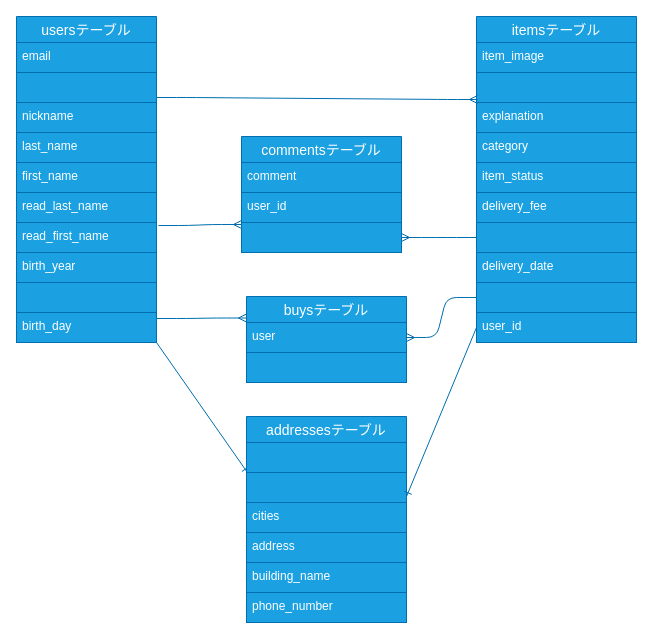
This 653x639 diagram has some shape labels left out. Each missing label, with the centre of its shape:
birth_month: point (86, 297)
delivery_source: point (556, 237)
item: point (326, 367)
item_id: point (321, 237)
item_name: point (556, 87)
item_price: point (556, 297)
password: point (86, 87)
postal_code: point (326, 457)
prefecture_id: point (326, 487)
